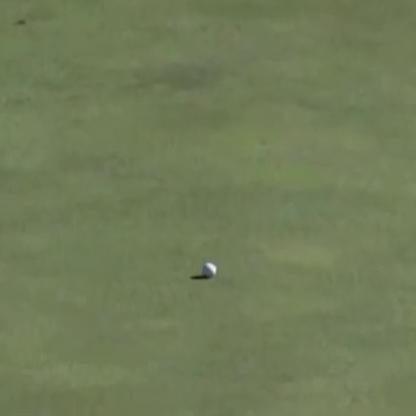golfball: (201, 260, 214, 276)
